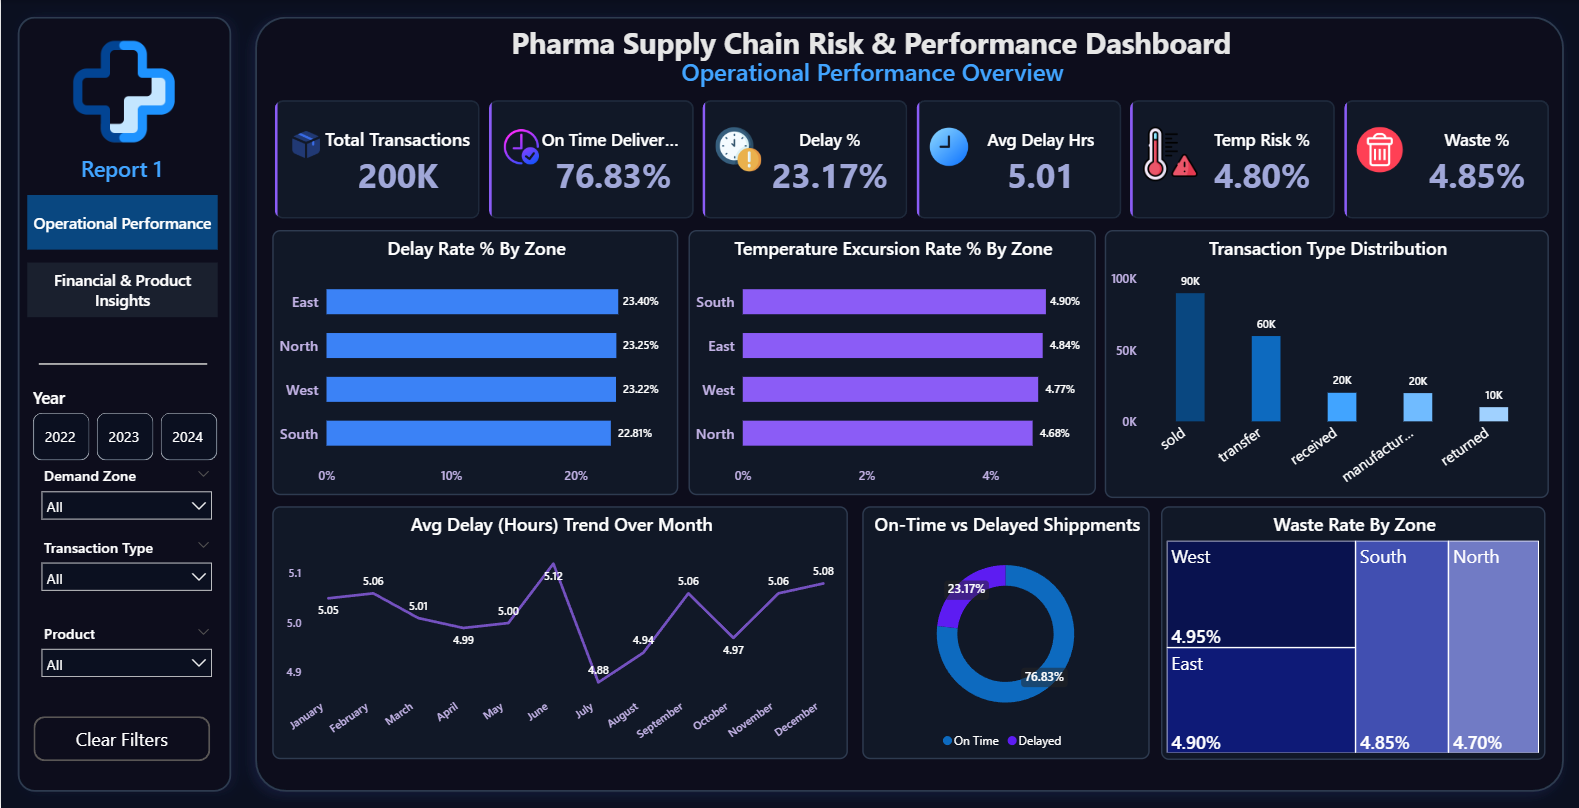

The dashboard page shown, as its layout file describes it:
{"tool":"powerbi","page":{"name":"Operational Performance","canvas":[1750,900],"ordinal":0},"visuals":[{"type":"shape","box":[263.3,0,1486.7,900],"z":0},{"type":"group","id":"g1","title":"Group 6","box":[301.7,257.1,1422,298],"z":0,"group":"g5"},{"type":"slicer","fields":{"Values":["pharma_dashboard_ready_data.demand_zone"]},"box":[34.6,514.7,209.6,67.9],"z":0,"group":"g6"},{"type":"shape","box":[0,0,275,900],"z":1000},{"type":"group","id":"g2","title":"Group 5","box":[302.3,565,1417.4,282.4],"z":1000,"group":"g5"},{"type":"slicer","fields":{"Values":["pharma_dashboard_ready_data.transaction_type"]},"box":[34.6,594.6,209.6,82.9],"z":1000,"group":"g6"},{"type":"textbox","box":[499.6,20.2,938.6,62.4],"z":2000},{"type":"slicer","fields":{"Values":["pharma_dashboard_ready_data.product_name"]},"box":[34.6,689.6,209.6,82.9],"z":2000,"group":"g6"},{"type":"cardVisual","fields":{"Data":["pharma_dashboard_ready_data.Total_Transactions","pharma_dashboard_ready_data.On Time Delivery %","pharma_dashboard_ready_data.Delay %","pharma_dashboard_ready_data.Avg Delay Hours","pharma_dashboard_ready_data.Temp Risk %","pharma_dashboard_ready_data.Waste %"]},"box":[288.3,95,1452,166],"z":3000,"group":"g4"},{"type":"pageNavigator","box":[29.9,216.9,213,137.7],"z":3000},{"type":"image","box":[63.3,40,145,123.3],"z":4000},{"type":"clusteredBarChart","title":"Delay Rate % By Zone","fields":{"Category":["pharma_dashboard_ready_data.demand_zone"],"Y":["pharma_dashboard_ready_data.Delay %"]},"box":[301.7,257.2,451.7,295],"z":4000,"group":"g1"},{"type":"textbox","box":[63.3,166.7,140,50],"z":5000},{"type":"clusteredBarChart","title":"Temperature Excursion Rate % By Zone","fields":{"Category":["pharma_dashboard_ready_data.demand_zone"],"Y":["pharma_dashboard_ready_data.Temp Risk %"]},"box":[764.6,257.2,453.3,295],"z":5000,"group":"g1"},{"type":"columnChart","title":"Transaction Type Distribution","fields":{"Category":["pharma_dashboard_ready_data.transaction_type"],"Y":["Count(pharma_dashboard_ready_data.transaction_id)"]},"box":[1229.1,257.1,494,298],"z":6000,"group":"g1"},{"type":"group","id":"g3","title":"Group 2","box":[30,425,217.2,347.5],"z":6000},{"type":"donutChart","title":"On-Time vs Delayed Shippments","fields":{"Y":["pharma_dashboard_ready_data.On Time Delivery %","pharma_dashboard_ready_data.Delay %"]},"box":[959.5,565.4,320.1,281.9],"z":7000,"group":"g2"},{"type":"actionButton","box":[36.7,796.7,196.7,50],"z":7000},{"type":"group","id":"g4","title":"Group 3","box":[288.3,95,1452,752.4],"z":8000},{"type":"lineChart","title":"Avg Delay (Hours) Trend Over Month","fields":{"Category":["pharma_dashboard_ready_data.transaction_date.Variation.Date Hierarchy.Month","pharma_dashboard_ready_data.transaction_date.Variation.Date Hierarchy.Day"],"Y":["pharma_dashboard_ready_data.Avg Delay Hours (Delayed Only)"]},"box":[302.3,565,641.1,281.6],"z":8000,"group":"g2"},{"type":"group","id":"g5","title":"Group 4","box":[301.7,257.1,1422,590.3],"z":8001,"group":"g4"},{"type":"textbox","box":[501.4,56.9,938.6,51.4],"z":9000},{"type":"advancedSlicerVisual","title":"Year","fields":{"Values":["pharma_dashboard_ready_data.year"]},"box":[30,425,217.2,93.5],"z":9000,"group":"g3"},{"type":"treemap","title":"Waste Rate By Zone","fields":{"Group":["pharma_dashboard_ready_data.demand_zone"],"Values":["pharma_dashboard_ready_data.Waste %"]},"box":[1291.7,565.1,428,282],"z":9000,"group":"g2"},{"type":"shape","box":[41.7,383.3,188.3,45],"z":10000},{"type":"group","id":"g6","title":"Group 1","box":[34.6,514.7,209.6,257.9],"z":12000,"group":"g3"}]}

Visuals, with their boxes in screenshot pixels (x1, y1, x2, y2), scaled from the page's 1750x900 canvas onto the 1579x808 screenshot:
shape: 238,0,1578,807
"Group 6" group: 272,231,1555,498
slicer - pharma_dashboard_ready_data.demand_zone: 31,462,220,523
shape: 0,0,248,807
"Group 5" group: 273,507,1552,761
slicer - pharma_dashboard_ready_data.transaction_type: 31,534,220,608
textbox: 451,18,1298,74
slicer - pharma_dashboard_ready_data.product_name: 31,619,220,694
cardVisual - pharma_dashboard_ready_data.Total_Transactions x pharma_dashboard_ready_data.On Time Delivery %: 260,85,1570,234
pageNavigator: 27,195,219,318
image: 57,36,188,147
"Delay Rate % By Zone" clusteredBarChart: 272,231,680,496
textbox: 57,150,183,195
"Temperature Excursion Rate % By Zone" clusteredBarChart: 690,231,1099,496
"Transaction Type Distribution" columnChart: 1109,231,1555,498
"Group 2" group: 27,382,223,694
"On-Time vs Delayed Shippments" donutChart: 866,508,1155,761
actionButton: 33,715,211,760
"Group 3" group: 260,85,1570,761
"Avg Delay (Hours) Trend Over Month" lineChart: 273,507,851,760
"Group 4" group: 272,231,1555,761
textbox: 452,51,1299,97
"Year" advancedSlicerVisual: 27,382,223,465
"Waste Rate By Zone" treemap: 1165,507,1552,761
shape: 38,344,208,385
"Group 1" group: 31,462,220,694
